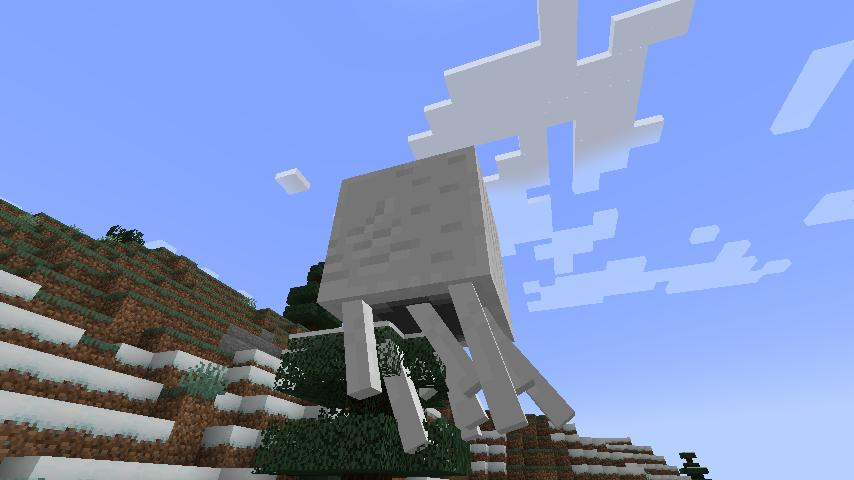ghast: (315, 142, 576, 455)
